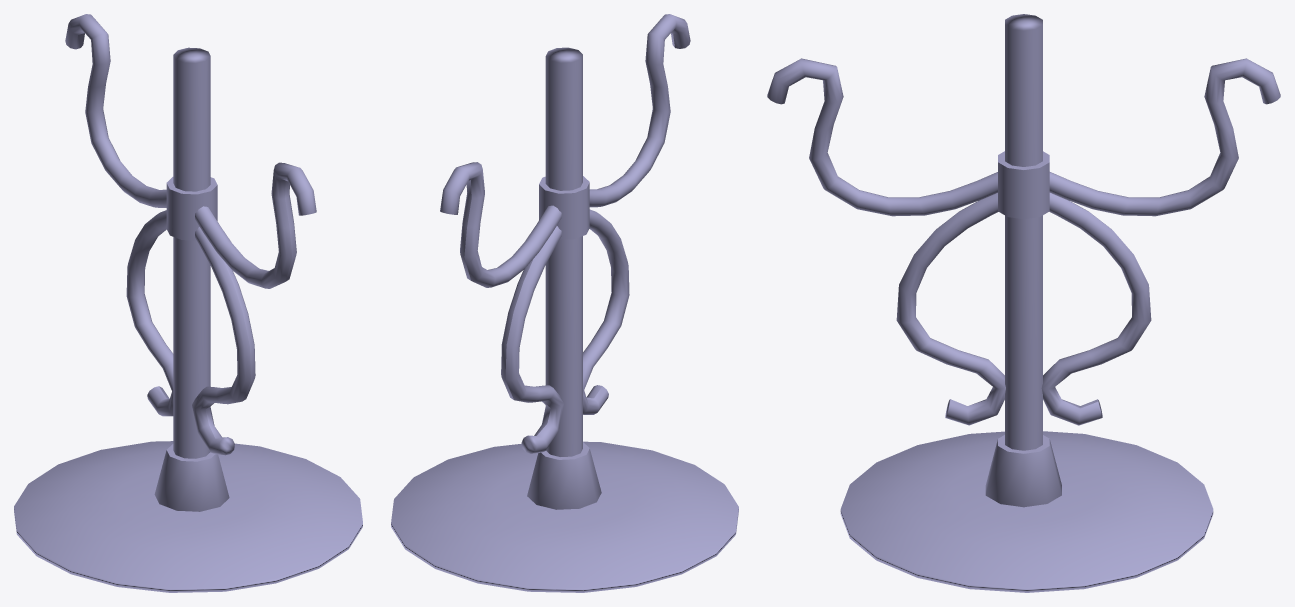
The model's file is Disk_Game_Base.fbx.
3 views of the same model, side by side, from view 1: azimuth 30°, elevation 25°; view 2: azimuth 150°, elevation 25°; view 3: azimuth 270°, elevation 25° (orthographic). The views are drawn at different scales.
Visible parts, largest first — view 1: Disk_Game_Base; view 2: Disk_Game_Base; view 3: Disk_Game_Base.
Part boxes in pixels (x1=…): Disk_Game_Base: x1=14, y1=14, x2=362, y2=592; Disk_Game_Base: x1=391, y1=14, x2=738, y2=592; Disk_Game_Base: x1=767, y1=14, x2=1280, y2=592.
Bounding box in the file's own units: 54.62 × 79.74 × 75.24.
